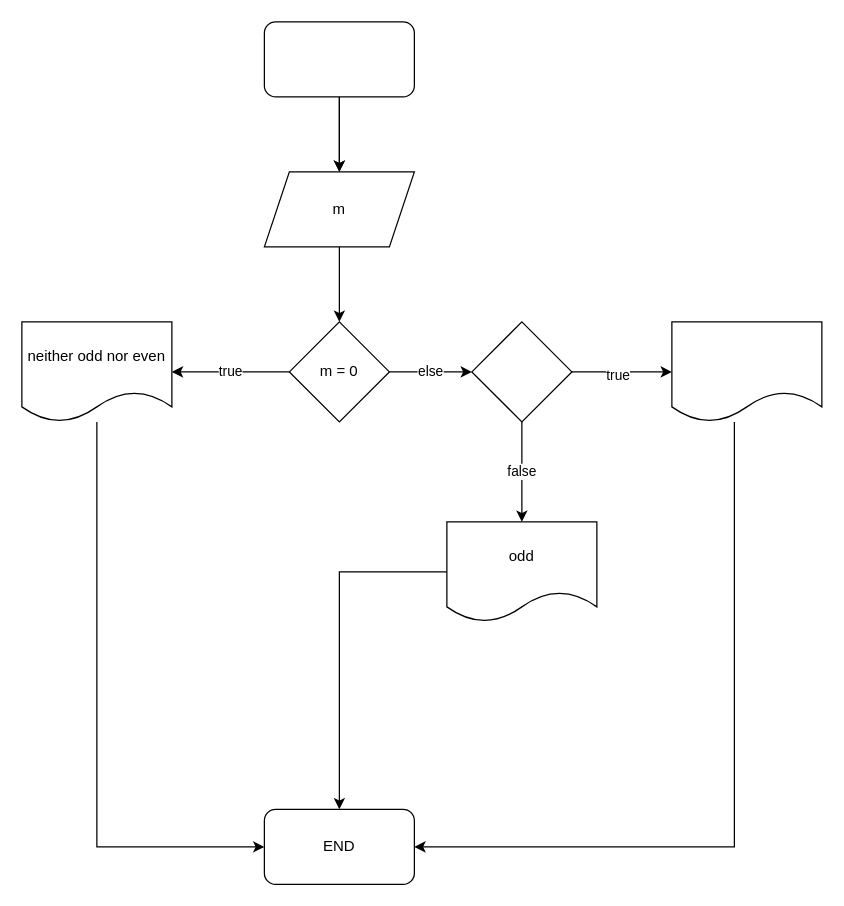
Some shapes in this 844 by 906 pixel diagram are drawn without their labels. The shapes that lost their labels are listed below. From the top down, each one's box as (x1, y1, x2, y2) in pixels, then its label:
(263, 21, 414, 97): START
(471, 321, 572, 422): m % 2 = 0
(671, 321, 822, 422): even
